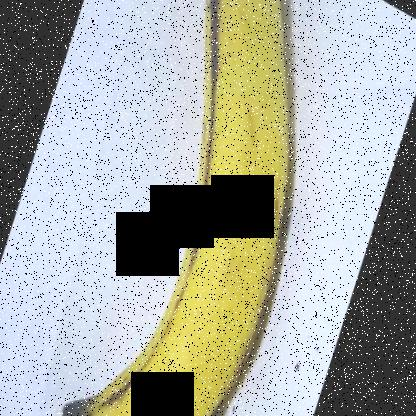ripe: (38, 1, 311, 415)
